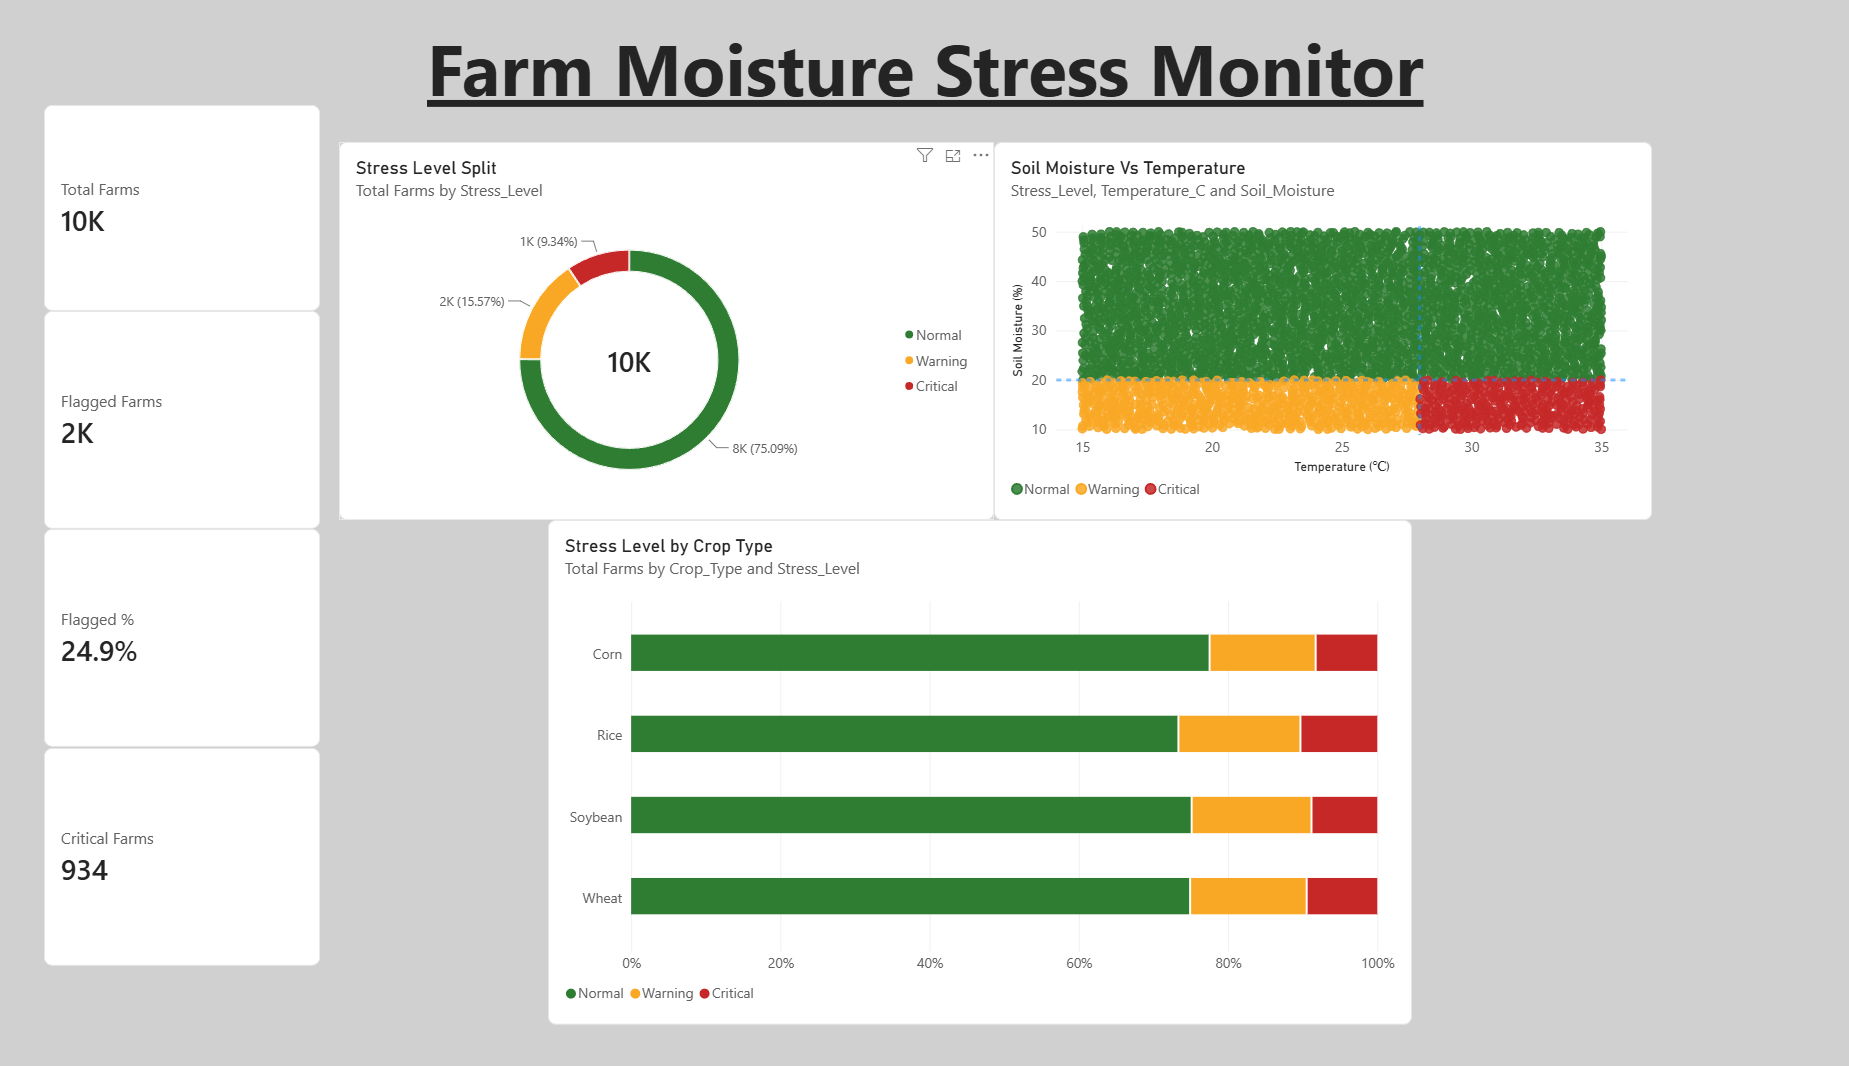

Layout of this report page (visuals, bound fields, positions):
{"tool":"powerbi","page":{"name":"Farm Moisture Stress Monitor","canvas":[1920,1080],"ordinal":0},"visuals":[{"type":"cardVisual","fields":{"Data":["farm_stress_alerts.Total Farms"]},"box":[50.5,106.1,279.6,208.2],"z":0},{"type":"cardVisual","fields":{"Data":["farm_stress_alerts.Critical Farms"]},"box":[50.5,755.4,279.6,220.6],"z":1000},{"type":"cardVisual","fields":{"Data":["farm_stress_alerts.Flagged Farms"]},"box":[50.5,314.3,279.6,220.6],"z":2000},{"type":"cardVisual","fields":{"Data":["farm_stress_alerts.Flagged %"]},"box":[50.5,534.8,279.6,220.6],"z":3000},{"type":"donutChart","title":"Stress Level Split","fields":{"Category":["farm_stress_alerts.Stress_Level"],"Y":["farm_stress_alerts.Total Farms"]},"box":[348.4,143.4,661.7,382.1],"z":4000},{"type":"hundredPercentStackedBarChart","title":"Stress Level by Crop Type","fields":{"Category":["farm_stress_alerts.Crop_Type"],"Series":["farm_stress_alerts.Stress_Level"],"Y":["farm_stress_alerts.Total Farms"]},"box":[559.7,525.5,873,509.5],"z":5000},{"type":"scatterChart","title":"Soil Moisture Vs Temperature","fields":{"Series":["farm_stress_alerts.Stress_Level"],"X":["farm_stress_alerts.Temperature_C"],"Y":["farm_stress_alerts.Soil_Moisture"]},"box":[1010.2,143.4,664.9,382.1],"z":6000},{"type":"textbox","box":[438.1,0,1043.9,142.9],"z":7000}]}

Visuals, with their boxes in screenshot pixels (x1, y1, x2, y2), scaled from the page's 1920x1080 canvas onto the 1849x1066 screenshot:
cardVisual - farm_stress_alerts.Total Farms: x1=49 y1=105 x2=318 y2=310
cardVisual - farm_stress_alerts.Critical Farms: x1=49 y1=746 x2=318 y2=963
cardVisual - farm_stress_alerts.Flagged Farms: x1=49 y1=310 x2=318 y2=528
cardVisual - farm_stress_alerts.Flagged %: x1=49 y1=528 x2=318 y2=746
"Stress Level Split" donutChart: x1=336 y1=142 x2=973 y2=519
"Stress Level by Crop Type" hundredPercentStackedBarChart: x1=539 y1=519 x2=1380 y2=1022
"Soil Moisture Vs Temperature" scatterChart: x1=973 y1=142 x2=1613 y2=519
textbox: x1=422 y1=0 x2=1427 y2=141
